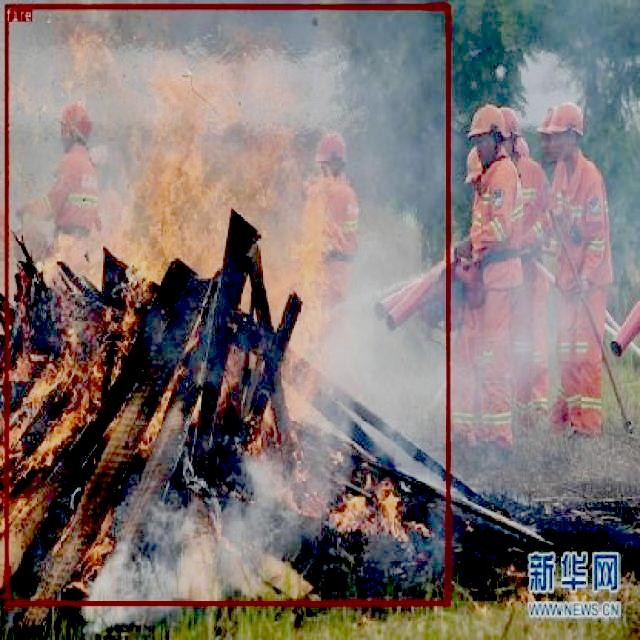fire: (4, 3, 450, 605)
